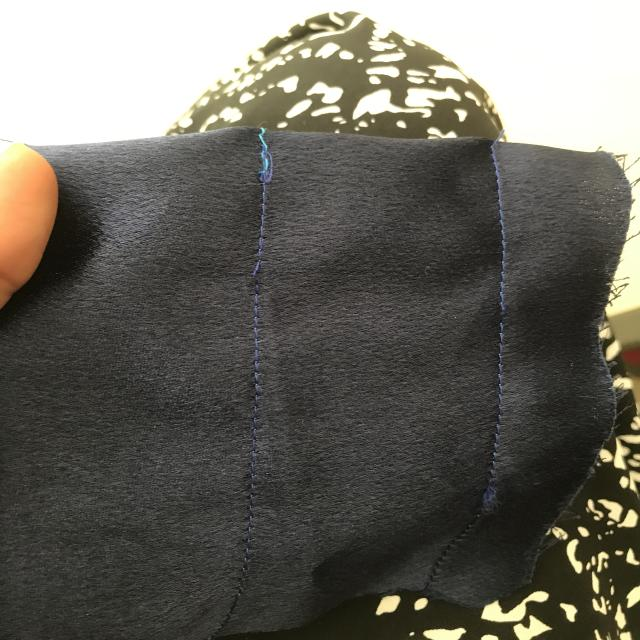broken: (243, 252, 274, 310)
